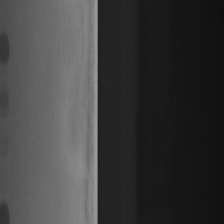oil_spot: (0, 84, 12, 163), (0, 28, 13, 67), (0, 184, 10, 222)
